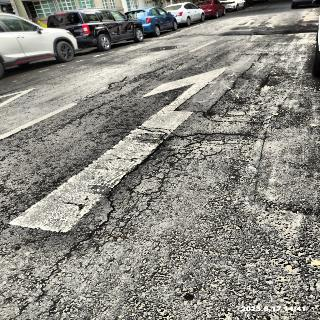alligator-crack: (104, 65, 173, 89)
crack: (51, 130, 238, 291), (200, 111, 248, 124), (67, 88, 103, 103), (204, 90, 228, 112), (246, 49, 264, 74), (227, 68, 245, 92)
pothole: (220, 33, 266, 37), (259, 29, 273, 31)
